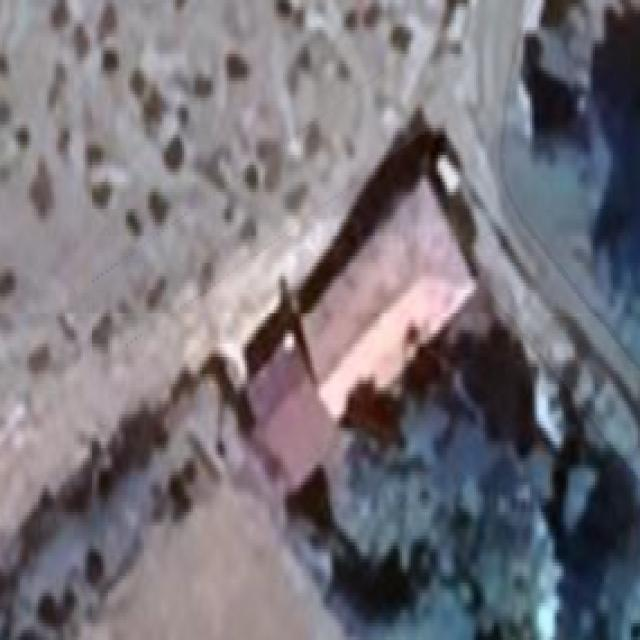Batiment: (248, 180, 475, 488)
